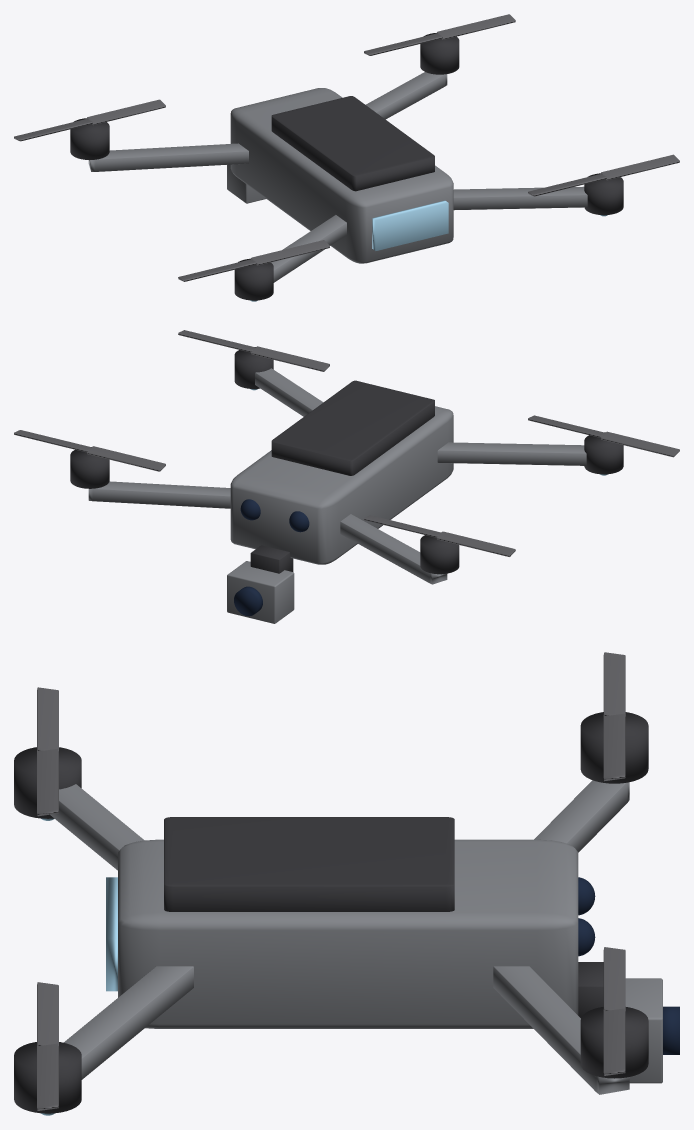
The model's file is drone.glb.
3 views of the same model, one above another, from view 1: azimuth 30°, elevation 25°; view 2: azimuth 150°, elevation 25°; view 3: azimuth 270°, elevation 25° (orthographic). The views are drawn at different scales.
Visible parts, largest first — view 1: body, top_shell, arm_1, arm_2, battery_tab, arm_0, arm_3, motor_0, motor_3, motor_1, motor_2, blade_0_0 (+8 smaller); view 2: body, top_shell, arm_3, arm_0, camera, arm_1, arm_2, motor_0, motor_1, motor_3, motor_2, gimbal (+9 smaller); view 3: body, top_shell, arm_2, arm_0, arm_3, arm_1, motor_0, motor_1, motor_2, camera, motor_3, blade_0_0 (+10 smaller).
Boxes of the visible parts, x1,y1,x2,y2 form: body: [230, 88, 453, 263]; top_shell: [271, 96, 434, 191]; arm_1: [88, 143, 248, 171]; arm_2: [453, 186, 587, 210]; battery_tab: [372, 200, 448, 250]; arm_0: [365, 72, 447, 119]; arm_3: [271, 215, 346, 282]; motor_0: [420, 33, 459, 74]; motor_3: [234, 258, 273, 300]; motor_1: [70, 118, 109, 159]; motor_2: [584, 173, 623, 215]; blade_0_0: [436, 14, 515, 39]; body: [230, 406, 453, 564]; top_shell: [271, 380, 434, 475]; arm_3: [437, 442, 586, 465]; arm_0: [88, 481, 230, 508]; camera: [227, 561, 294, 623]; arm_1: [340, 514, 447, 584]; arm_2: [255, 368, 323, 416]; motor_0: [70, 447, 109, 488]; motor_1: [420, 532, 459, 574]; motor_3: [584, 432, 623, 474]; motor_2: [234, 347, 273, 388]; gimbal: [250, 545, 293, 573]; body: [118, 839, 578, 1028]; top_shell: [164, 817, 454, 911]; arm_2: [64, 966, 193, 1079]; arm_0: [493, 966, 629, 1094]; arm_3: [50, 784, 143, 870]; arm_1: [534, 780, 629, 852]; motor_0: [580, 1007, 648, 1078]; motor_1: [580, 712, 648, 783]; motor_2: [14, 1042, 81, 1113]; camera: [625, 978, 662, 1083]; motor_3: [14, 747, 81, 818]; blade_0_0: [603, 1008, 625, 1075].
Size of the model in its own units: 2.04 by 0.485 by 1.38.
